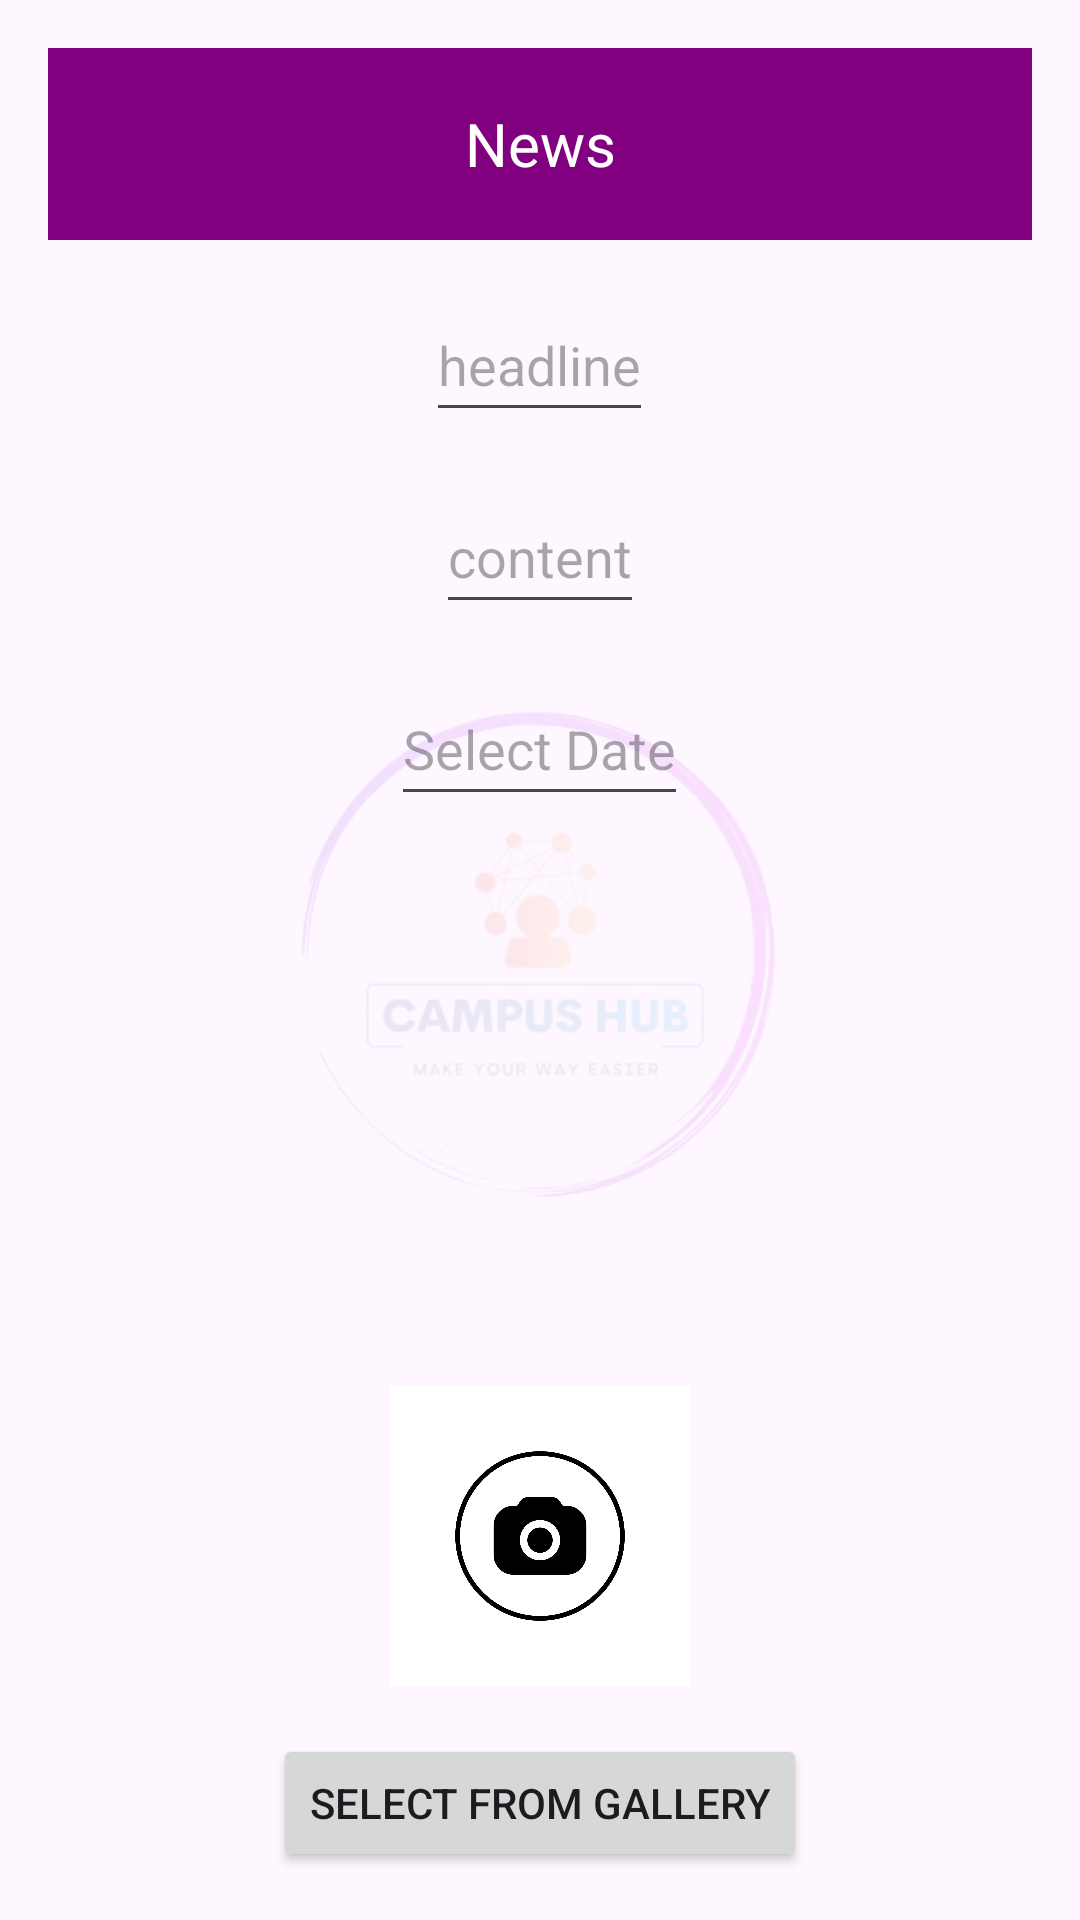

Screen size 1080*1920. Icon name, then its center in pixels as (x,y):
capture: (540,1536)
